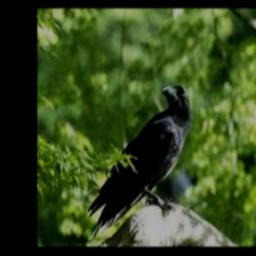Crow: (87, 82, 191, 243)
